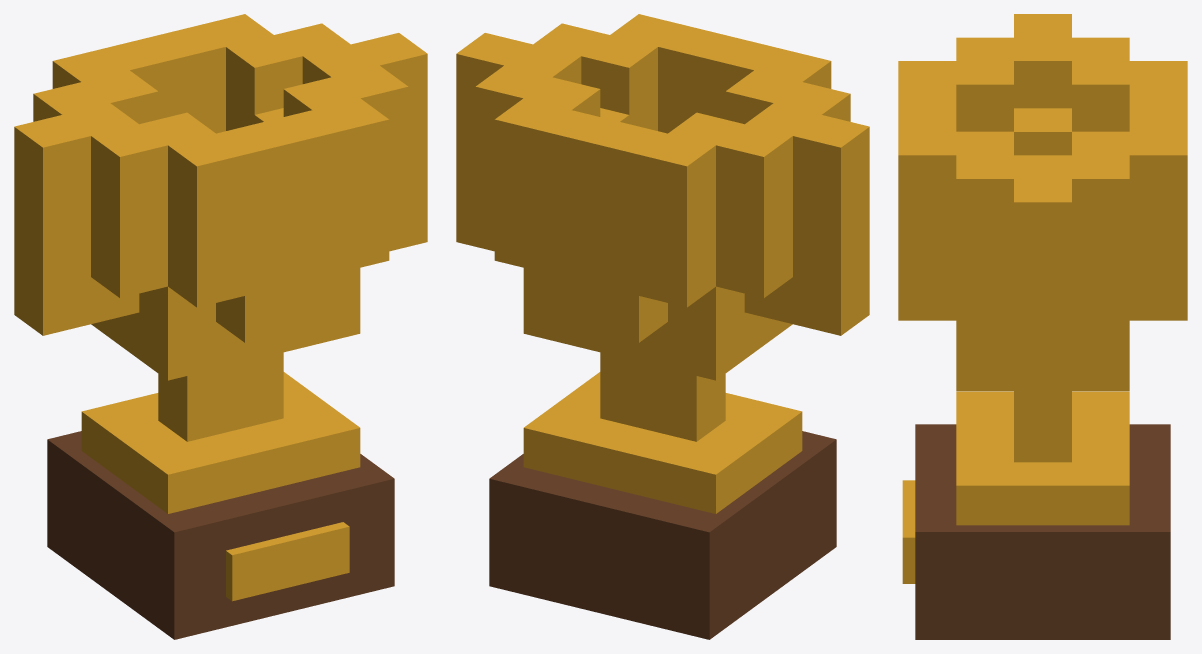
File: trophy-gold-pixor-blocky.glb
The picture shows the model from 3 angles, left to right: view 1: azimuth 30°, elevation 25°; view 2: azimuth 150°, elevation 25°; view 3: azimuth 270°, elevation 25°; orthographic projection.
Visible parts, largest first — view 1: Cup, Cup plinth, Cup plate; view 2: Cup, Cup plinth; view 3: Cup, Cup plinth, Cup plate.
Part boxes in pixels (x1,y1,x2,y2): Cup: (14, 14, 427, 513); Cup plinth: (47, 431, 394, 639); Cup plate: (226, 522, 349, 601); Cup: (456, 14, 869, 513); Cup plinth: (489, 431, 836, 639); Cup: (898, 14, 1187, 525); Cup plinth: (915, 424, 1170, 639); Cup plate: (902, 480, 915, 583).
Bounding box in the file's own units: 0.5242 × 0.62 × 0.34.
